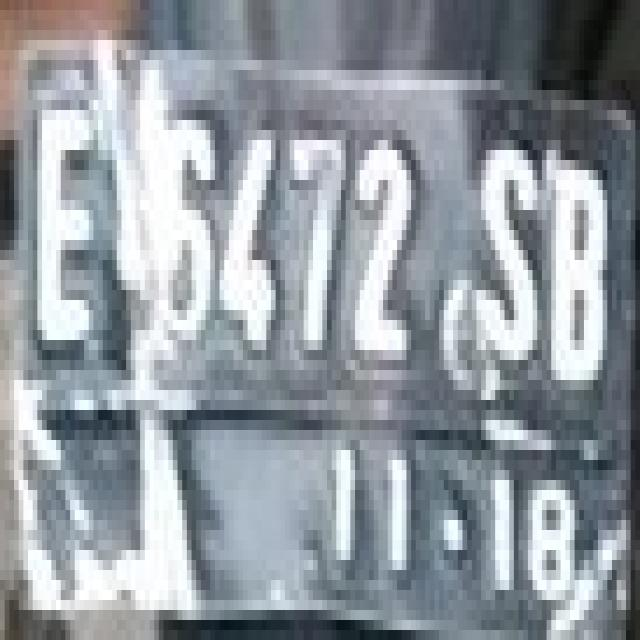plate: (24, 30, 636, 620)
